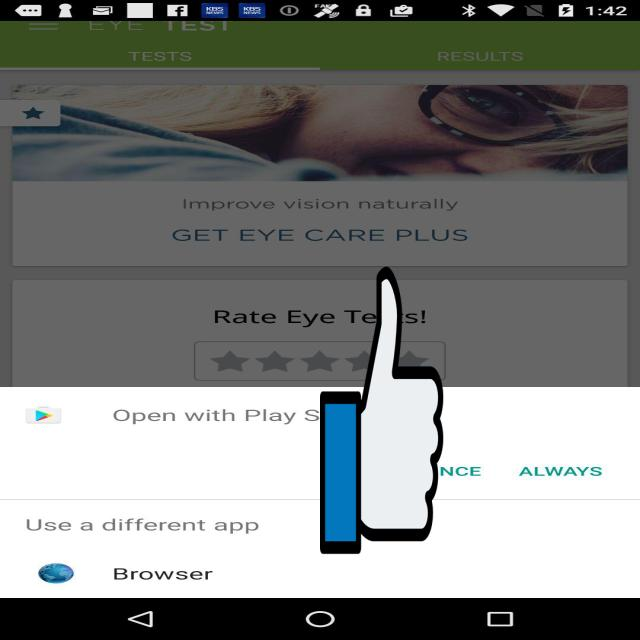privacy zuckering: (320, 260, 443, 560)
